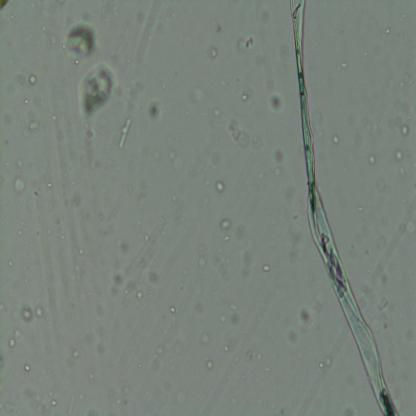Background material: (74, 63, 126, 120), (362, 253, 396, 319), (135, 229, 163, 288), (69, 123, 100, 174), (65, 18, 101, 57), (146, 330, 172, 371), (36, 9, 61, 49), (14, 379, 43, 411), (284, 219, 307, 256), (27, 178, 51, 213), (95, 303, 107, 360), (237, 241, 254, 279), (230, 124, 250, 150), (105, 232, 129, 253), (204, 8, 223, 34), (20, 302, 44, 322), (195, 237, 211, 267), (280, 318, 299, 342), (217, 248, 231, 280), (109, 270, 124, 298), (267, 90, 285, 113), (71, 195, 91, 215), (298, 306, 314, 330), (167, 150, 184, 171), (146, 100, 163, 121), (220, 335, 237, 356), (231, 222, 250, 240), (6, 328, 23, 348), (12, 174, 28, 194), (239, 36, 255, 56), (188, 88, 208, 103), (25, 121, 39, 139), (200, 324, 211, 346), (214, 179, 228, 195), (399, 222, 416, 235), (252, 348, 266, 363), (219, 216, 233, 231), (318, 356, 333, 369), (85, 367, 97, 382), (20, 94, 33, 107), (52, 110, 64, 124), (68, 393, 76, 414), (204, 357, 215, 371), (396, 147, 404, 165), (275, 150, 285, 164), (401, 124, 410, 139), (0, 0, 13, 10), (229, 301, 239, 314), (28, 71, 37, 85), (134, 288, 144, 300), (262, 262, 272, 274), (240, 92, 250, 103), (332, 132, 341, 144), (209, 46, 218, 58), (370, 155, 379, 167), (381, 30, 394, 38), (72, 347, 80, 359), (23, 363, 32, 372), (340, 62, 350, 70), (224, 232, 230, 244), (48, 182, 56, 191), (169, 304, 176, 314), (7, 258, 14, 268), (50, 399, 57, 408)
Cotton: (290, 0, 399, 416)
Glass filter fibre: (118, 117, 132, 149)
